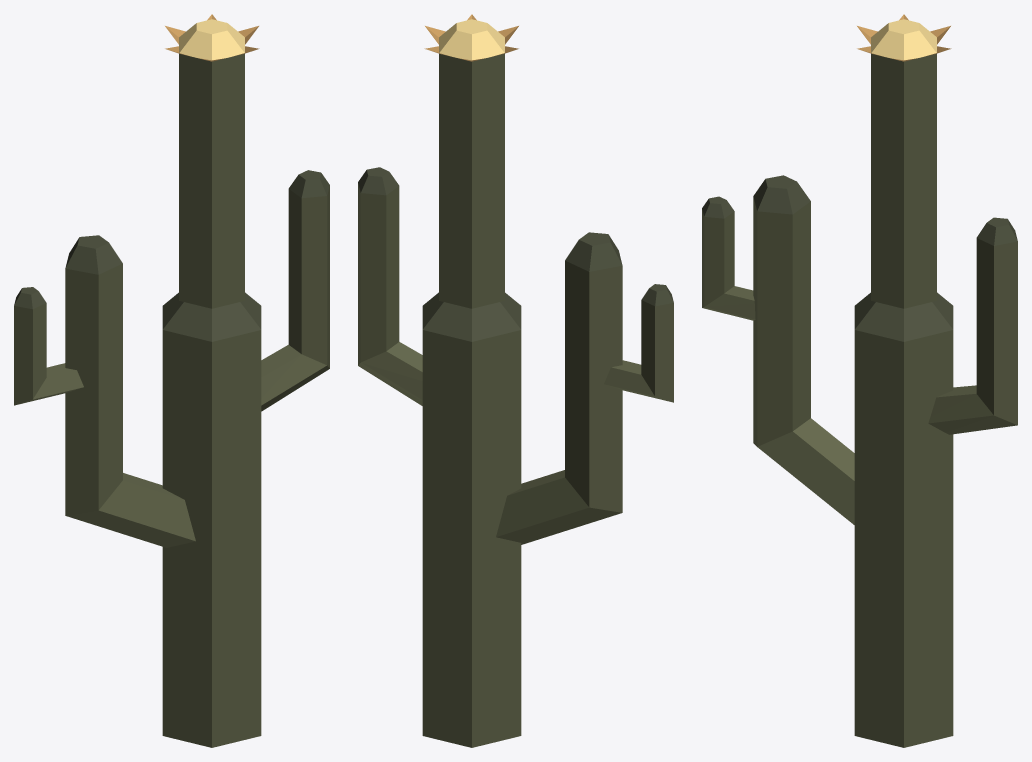
File: TB_D_Env_CactusD_C.FBX
3 views of the same model, side by side, from view 1: azimuth 30°, elevation 25°; view 2: azimuth 150°, elevation 25°; view 3: azimuth 330°, elevation 25° (orthographic).
Parts seen in each view (by area): view 1: TB_D_Env_CactusD_C; view 2: TB_D_Env_CactusD_C; view 3: TB_D_Env_CactusD_C.
Part boxes in pixels (box(x1,y1,x2,y2)): TB_D_Env_CactusD_C: box(14, 14, 329, 747); TB_D_Env_CactusD_C: box(358, 14, 673, 747); TB_D_Env_CactusD_C: box(702, 14, 1017, 747).
Size of the model in its own units: 1.7 by 3.59 by 0.4616.
